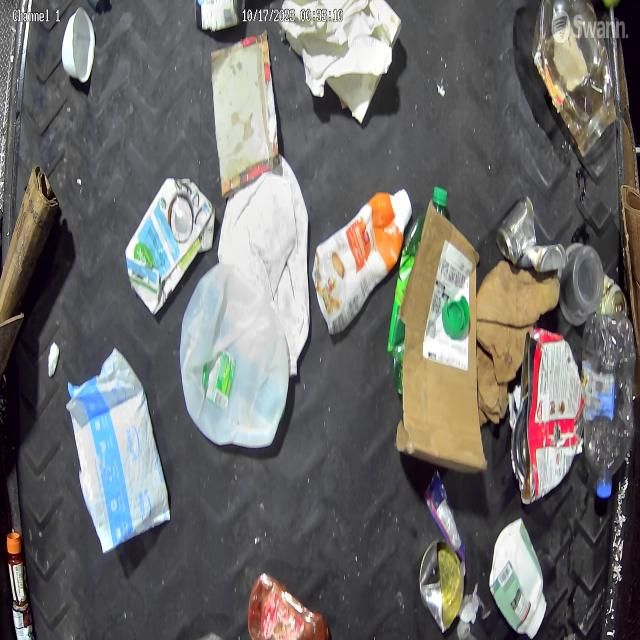can: (511, 328, 585, 503), (419, 538, 465, 634), (496, 194, 540, 268), (193, 0, 244, 35), (516, 243, 566, 273), (596, 274, 628, 315)
milk_jug: (218, 153, 310, 377), (179, 265, 289, 447)
non_white_jug: (314, 188, 412, 334), (125, 178, 216, 315)
plastic_bottle: (583, 315, 634, 497)
